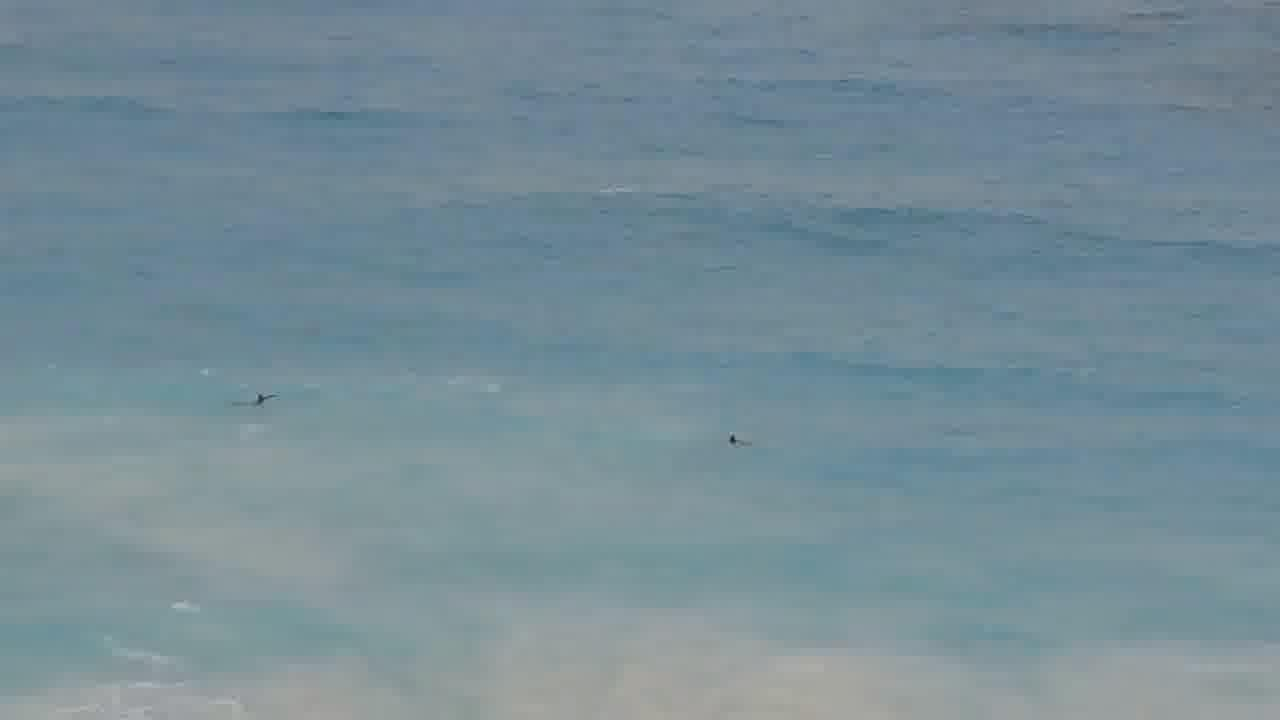swimmer: (231, 371, 302, 421), (714, 414, 763, 463)
